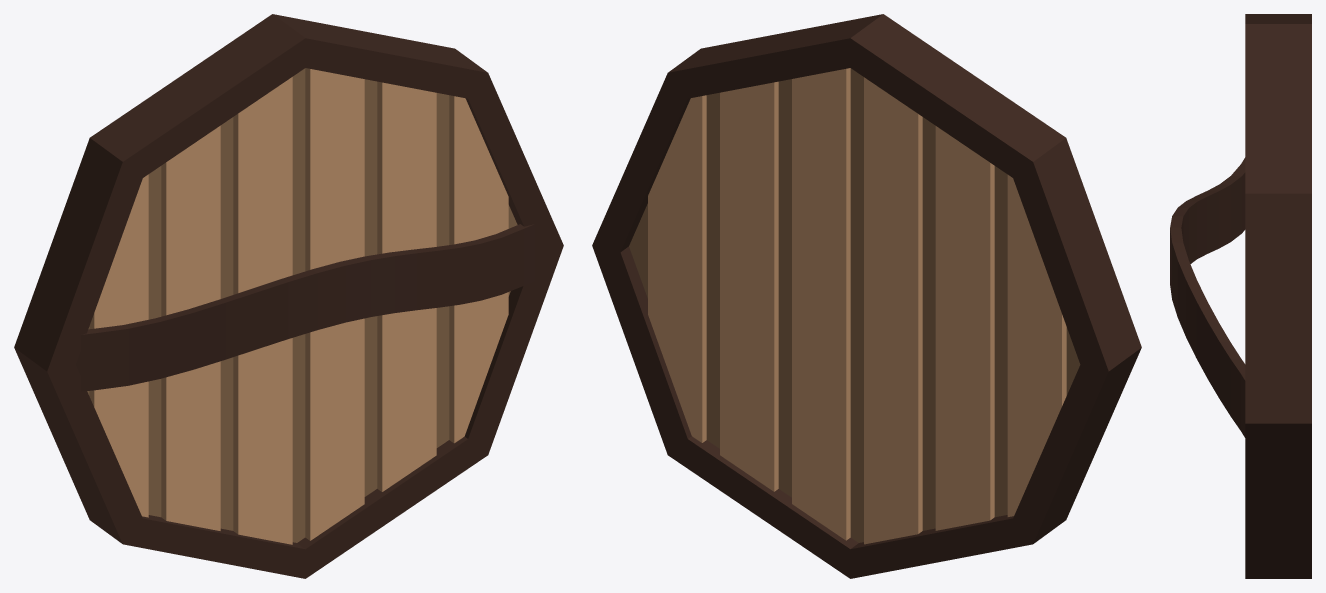
File: Shield_CreativeTechLab_KtP3XC.glb
The picture shows the model from 3 angles, left to right: view 1: azimuth 30°, elevation 25°; view 2: azimuth 150°, elevation 25°; view 3: azimuth 270°, elevation 25°; orthographic projection.
Parts seen in each view (by area): view 1: buckler; view 2: buckler; view 3: buckler.
Part boxes in pixels (x1,y1,x2,y2): buckler: [14, 14, 563, 578]; buckler: [592, 14, 1141, 578]; buckler: [1170, 14, 1311, 578].
Size of the model in its own units: 0.65 by 0.65 by 0.1533.
